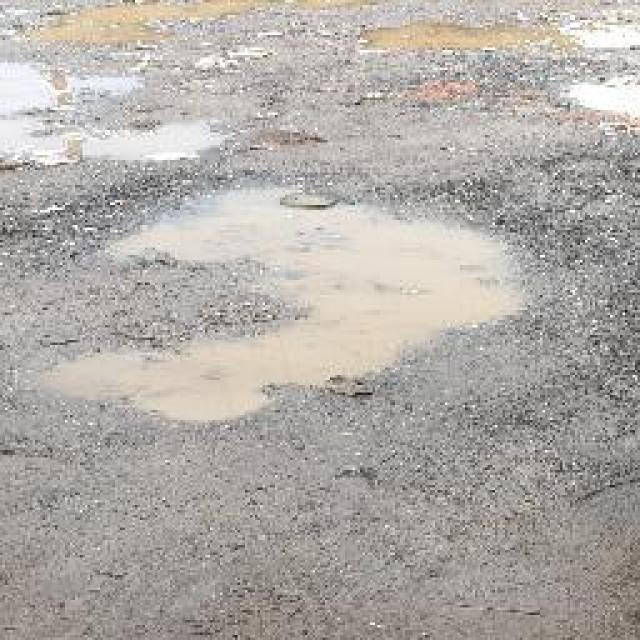puddle: (40, 187, 533, 430)
